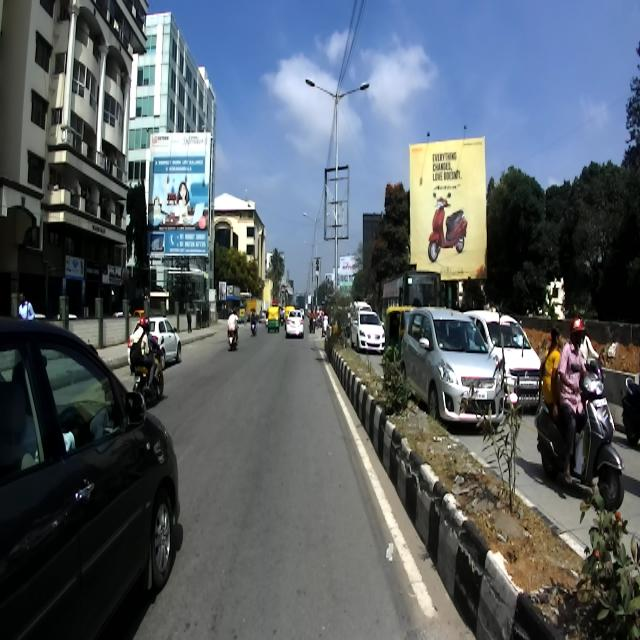car ahead at: (2, 315, 182, 640)
